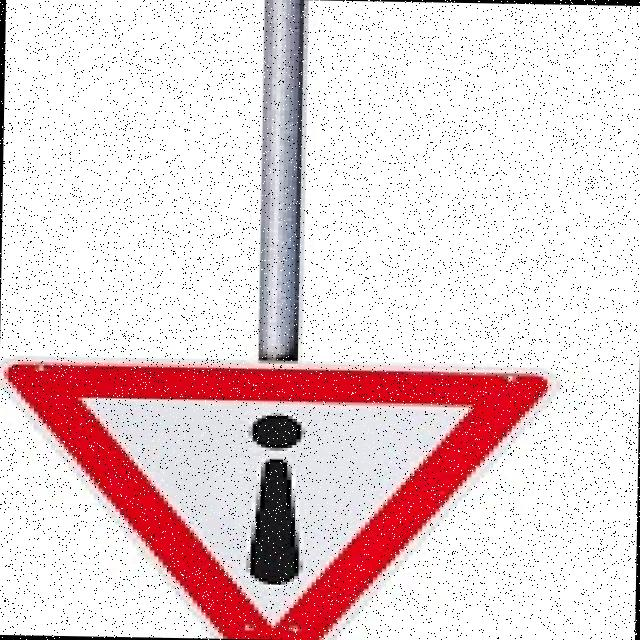warning: (0, 355, 547, 640)
